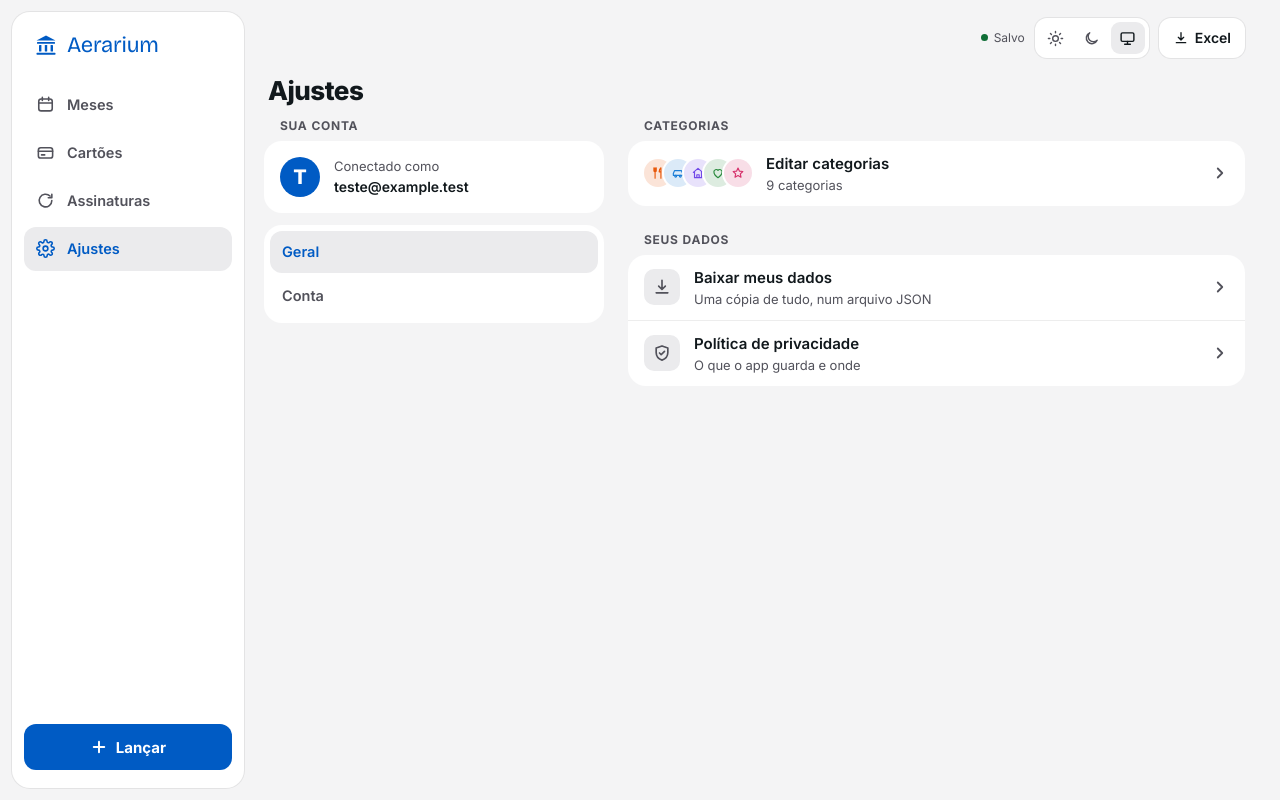
it: baixar meus dados › sem internet, explica
Click the button "Baixar meus dados": (662, 287) [628, 255, 1245, 320]
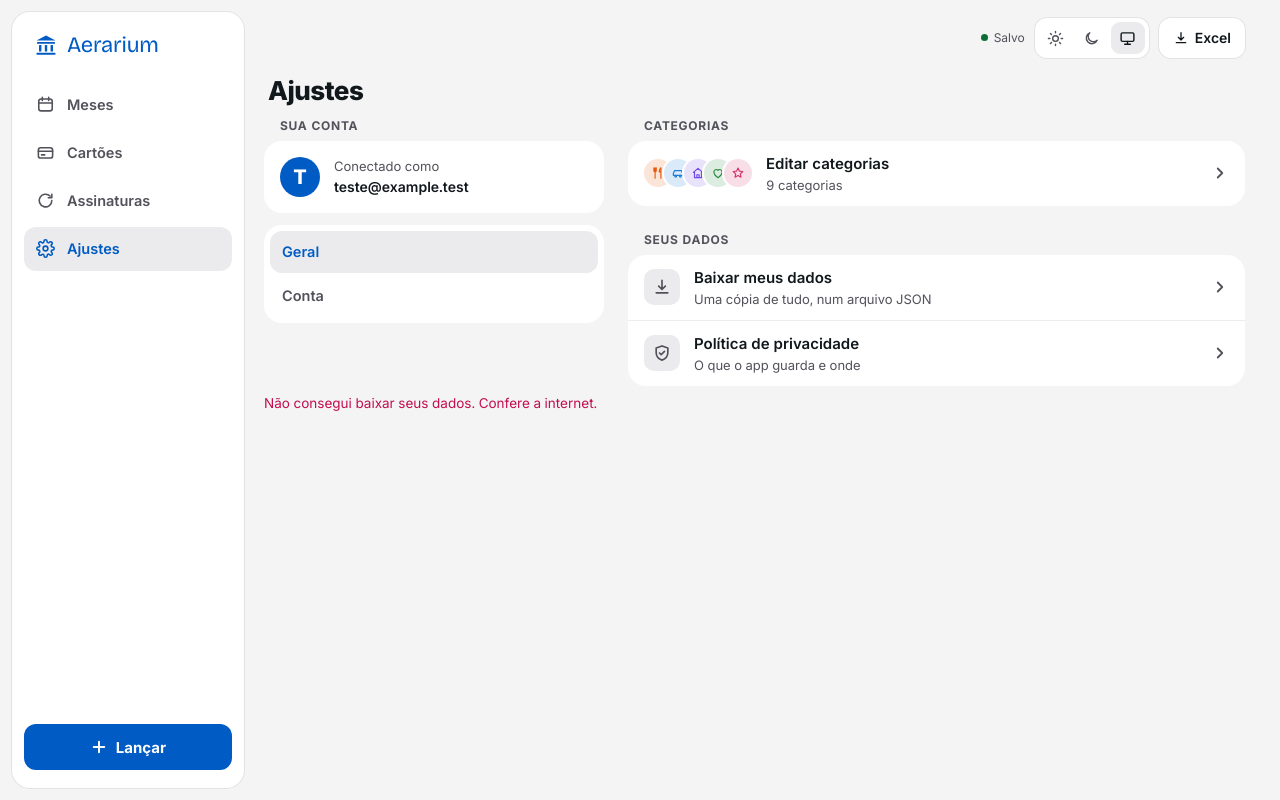
Expected: the text "Não consegui baixar seus dados. Confere a internet." is shown, [264, 395, 597, 411]
